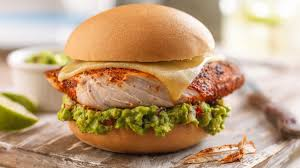hamburger: (49, 2, 243, 156)
